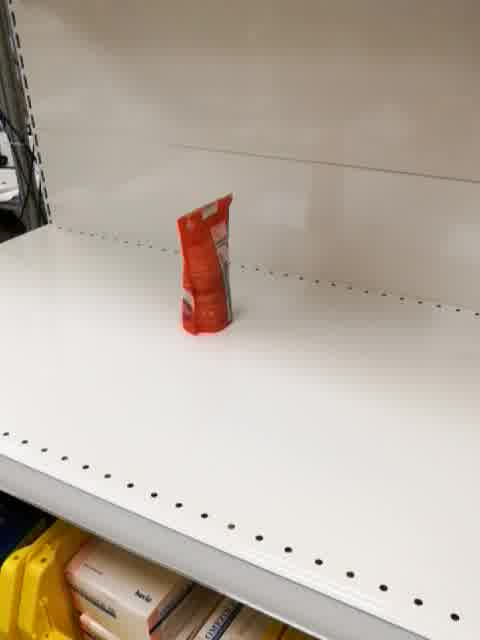whitechia: (176, 192, 237, 337)
